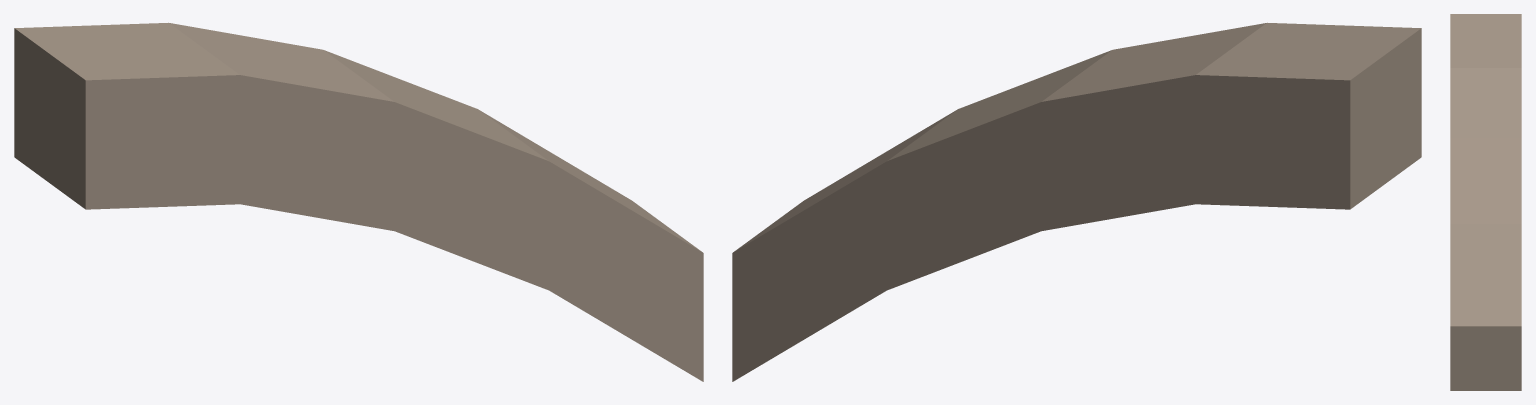
Rendered from Roof_Accent_Rake_Convex.glb.
3 views of the same model, side by side, from view 1: azimuth 30°, elevation 25°; view 2: azimuth 150°, elevation 25°; view 3: azimuth 270°, elevation 25° (orthographic). The views are drawn at different scales.
Visible parts, largest first — view 1: object1; view 2: object1; view 3: object1.
Part boxes in pixels (<box>): object1: <box>14,22,703,381</box>; object1: <box>732,22,1421,381</box>; object1: <box>1450,14,1521,390</box>.
Size of the model in its own units: 1 by 0.7 by 0.2.
